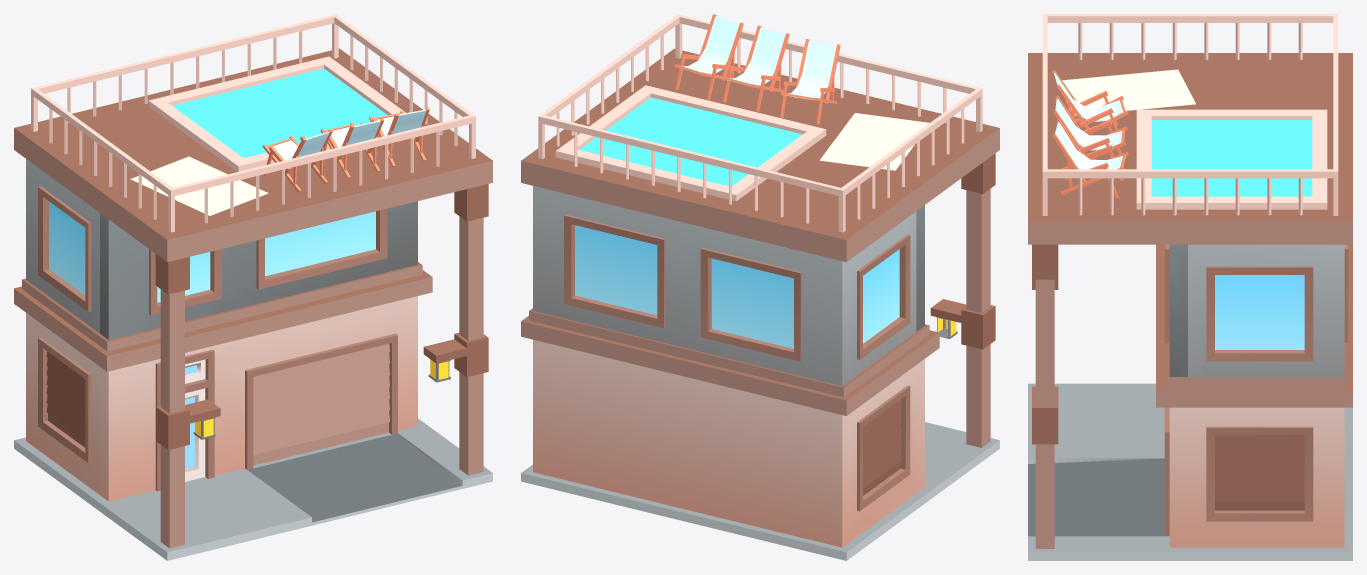
Rendered from city2-building-living-16.glb.
The picture shows the model from 3 angles, left to right: view 1: azimuth 30°, elevation 25°; view 2: azimuth 150°, elevation 25°; view 3: azimuth 270°, elevation 25°; orthographic projection. The views are drawn at different scales.
Parts seen in each view (by area): view 1: Building_Living_16; view 2: Building_Living_16; view 3: Building_Living_16.
Boxes of the visible parts, x1,y1,x2,y2 form: Building_Living_16: (14,14,492,560); Building_Living_16: (521,14,999,560); Building_Living_16: (1028,14,1352,560).
Size of the model in its own units: 8.03 by 8.89 by 6.55.
Materials: 1 (1 with a texture image).
